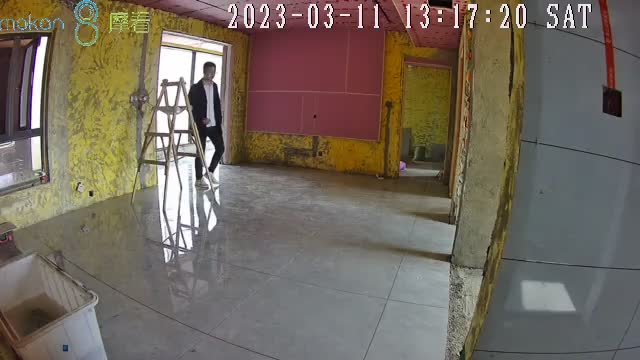people: (188, 62, 225, 187)
window: (159, 41, 224, 150)
